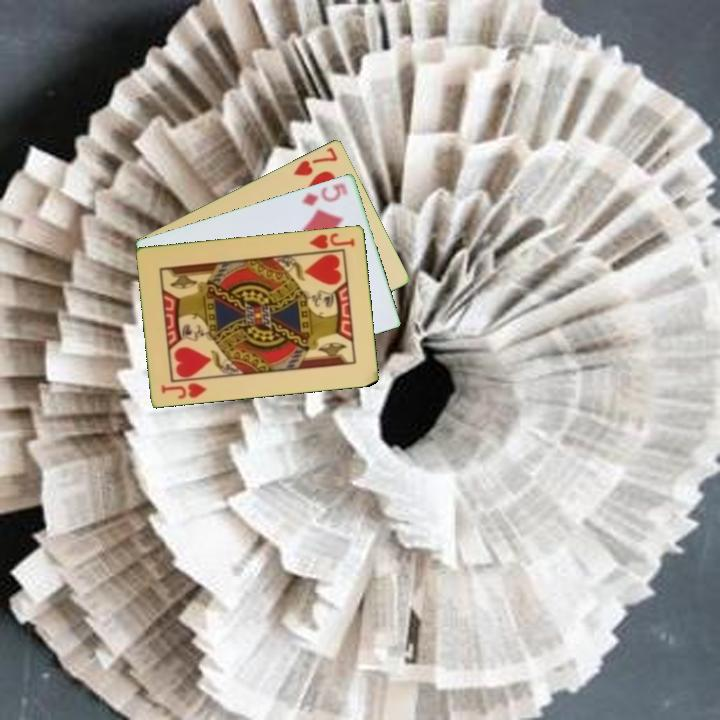5d: (298, 181, 351, 208)
7h: (290, 143, 341, 179)
Jh: (306, 229, 358, 252), (158, 379, 210, 401)
